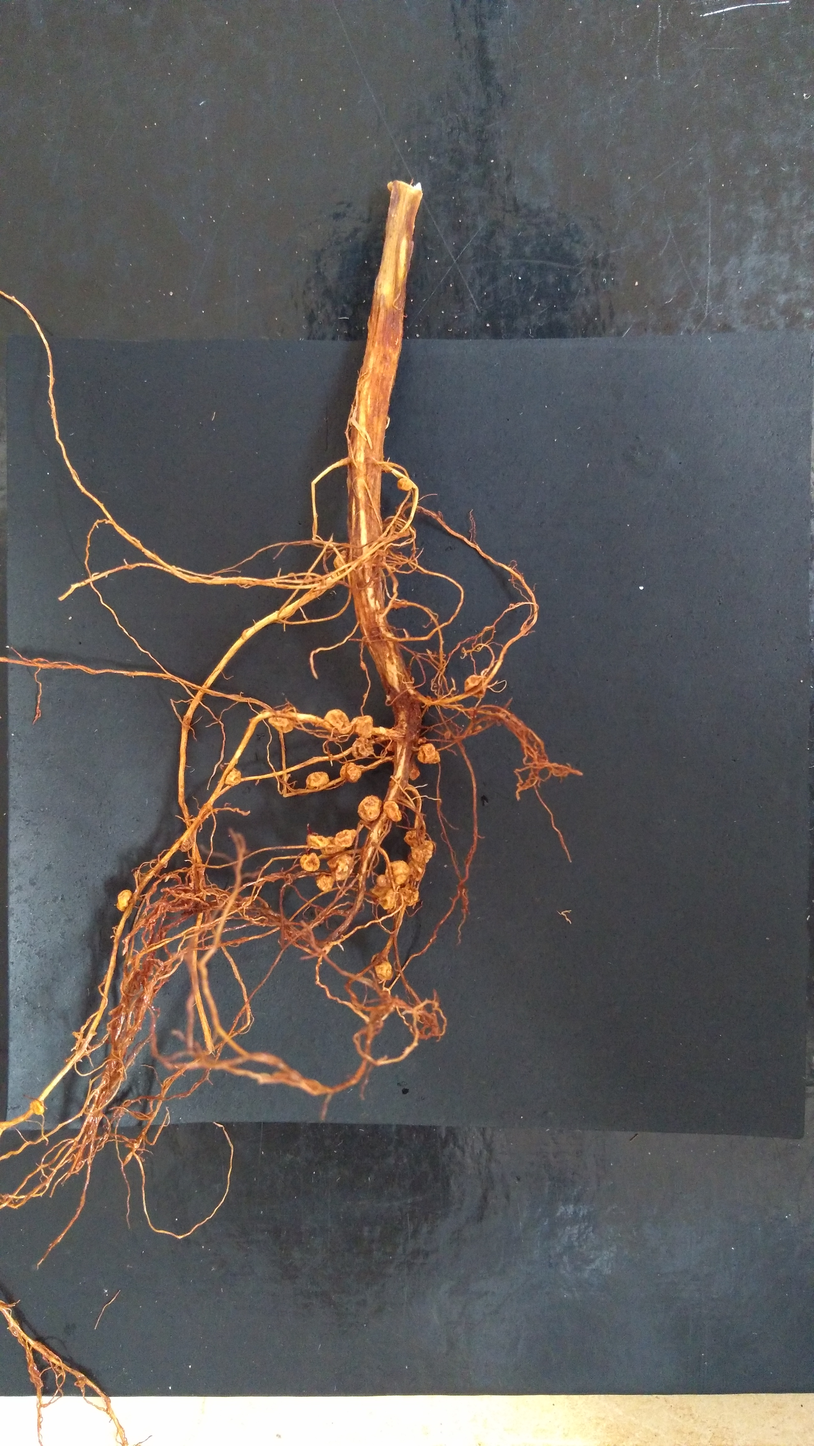nodule: (369, 880, 399, 911), (323, 707, 353, 736), (326, 853, 356, 882), (356, 794, 384, 823), (408, 838, 436, 864), (462, 672, 488, 700), (383, 859, 410, 885), (349, 714, 375, 739), (338, 760, 364, 785), (397, 881, 422, 907), (349, 736, 376, 760), (318, 835, 347, 855), (417, 742, 442, 765), (333, 826, 359, 848), (304, 769, 332, 789), (372, 959, 394, 983), (266, 716, 295, 734), (299, 850, 321, 873), (114, 888, 134, 913), (223, 766, 243, 789), (304, 833, 331, 850), (407, 858, 426, 882), (384, 800, 403, 823), (331, 548, 348, 573), (315, 873, 335, 893), (27, 1097, 47, 1116), (402, 829, 420, 848), (394, 476, 414, 493), (179, 834, 196, 853), (409, 759, 422, 783), (375, 873, 387, 888), (444, 729, 454, 742), (473, 724, 484, 733)
